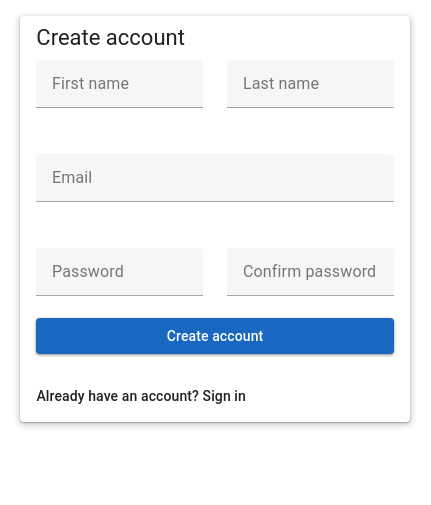
Course registration › Shows the API message when registration fails
Type "Sam" into the field labelled "First name". click: (120, 84)
box: x1=36 y1=60 x2=203 y2=108
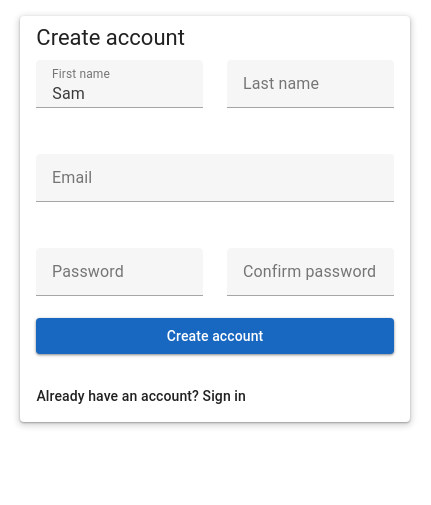
Type "Student" into the field labelled "Last name". click: (310, 84)
box: x1=227 y1=60 x2=394 y2=108
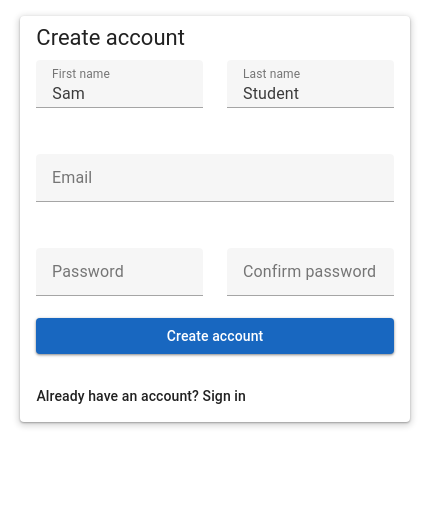
Type "student@example.com" into the field labelled "Email". click: (215, 178)
box: x1=36 y1=154 x2=394 y2=202
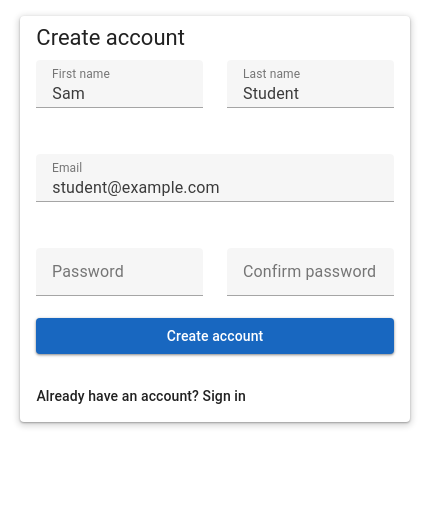
Type "password123" into the password field labelled "Password". click: (120, 272)
box: x1=36 y1=248 x2=203 y2=296
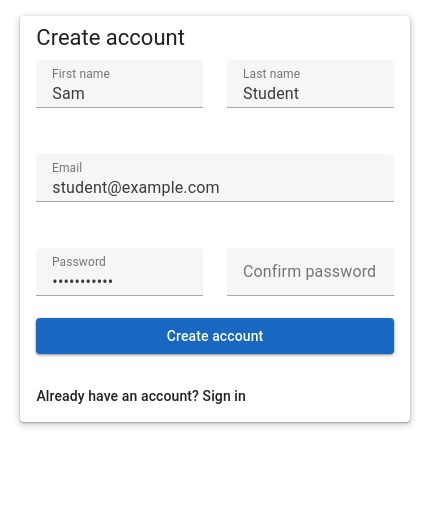
Type "password123" into the password field labelled "Confirm password". click: (310, 272)
box: x1=227 y1=248 x2=394 y2=296
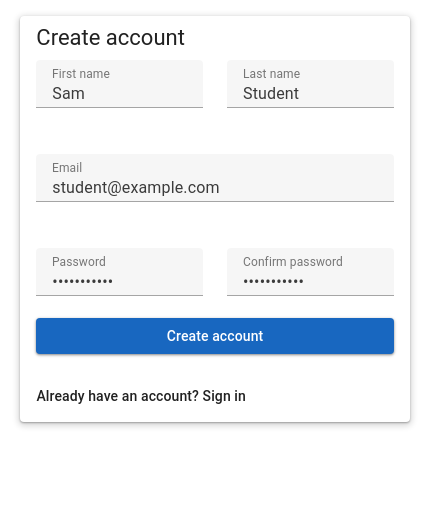
Submit the form, box x1=36 y1=60 x2=394 y2=354
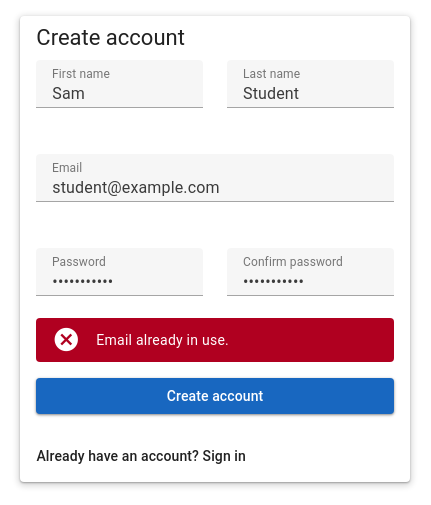
Now the text "Email already in use." is shown, box x1=96 y1=332 x2=229 y2=348
